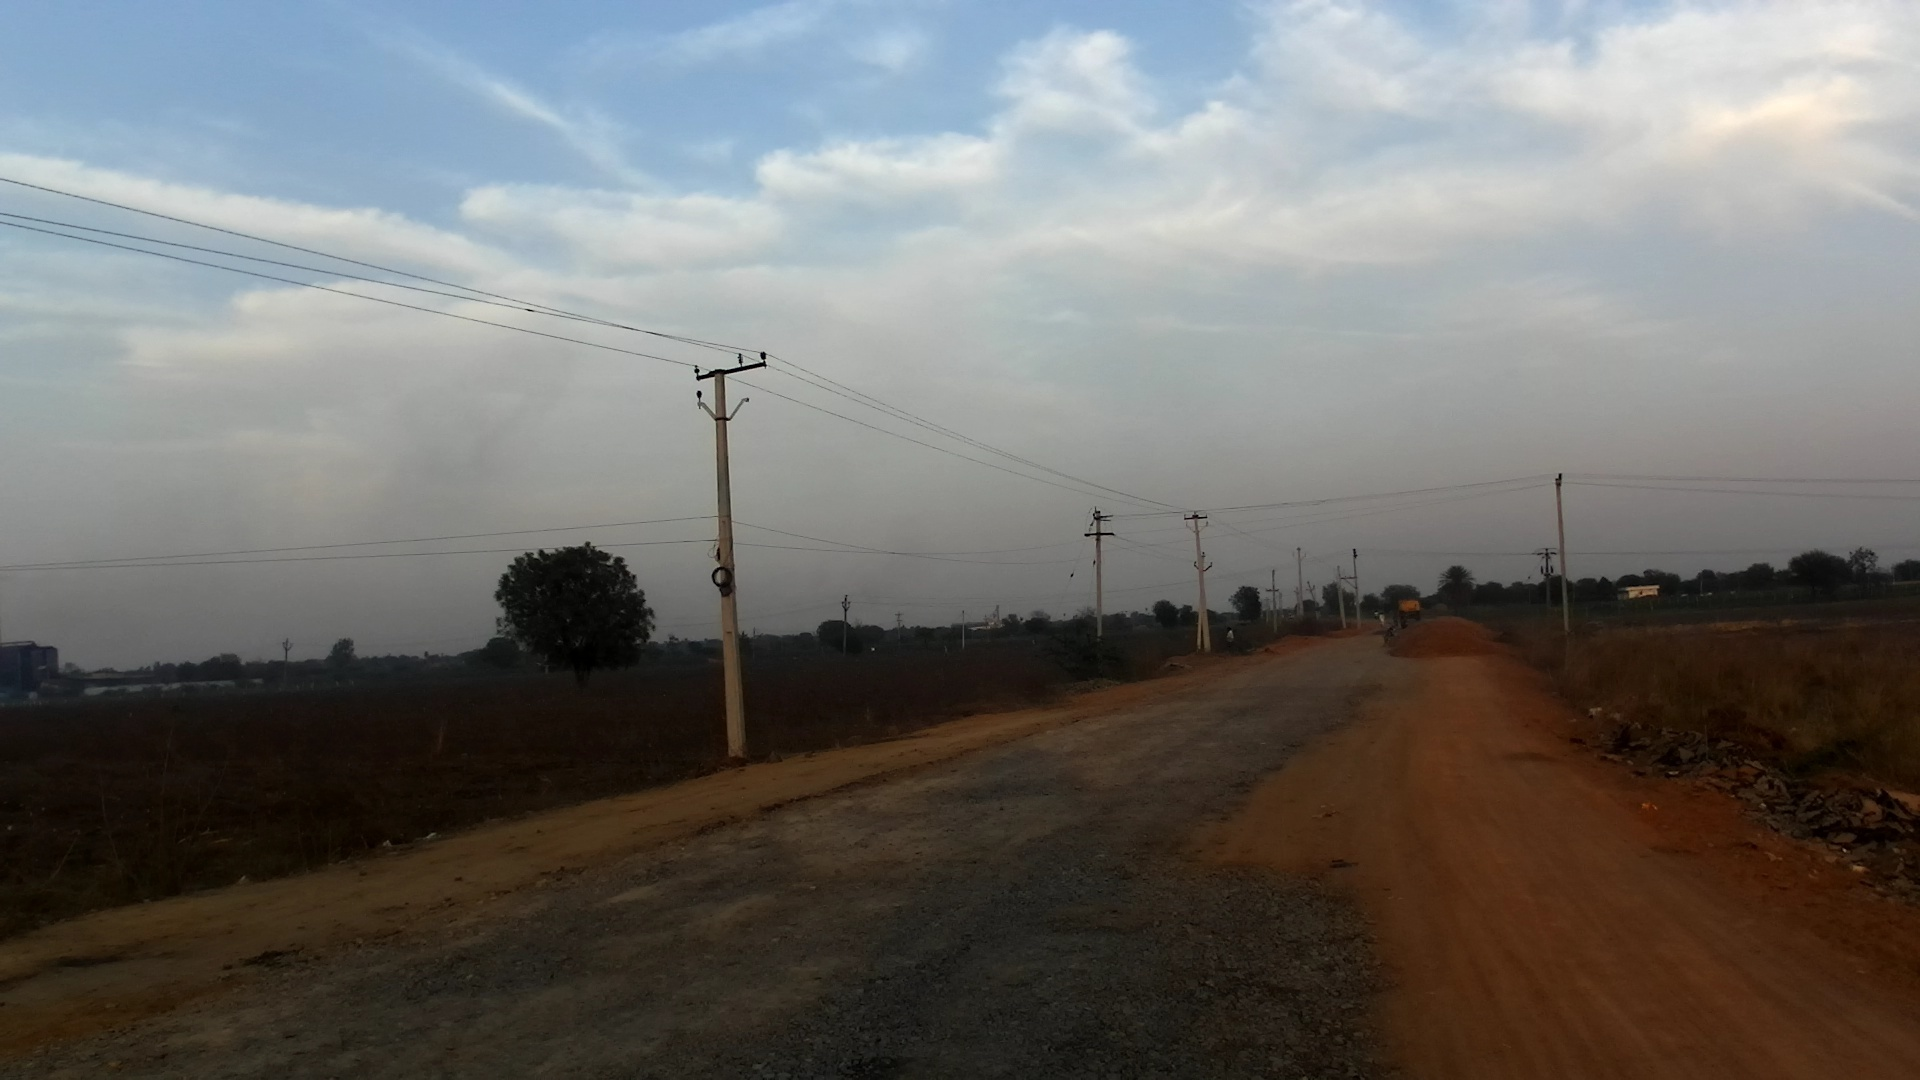person: (1224, 626, 1239, 651)
truck: (1397, 600, 1431, 626)
